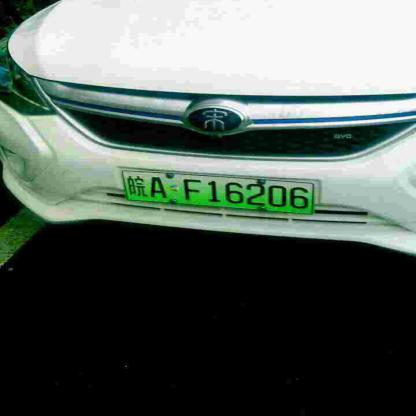lp: (120, 170, 314, 214)
